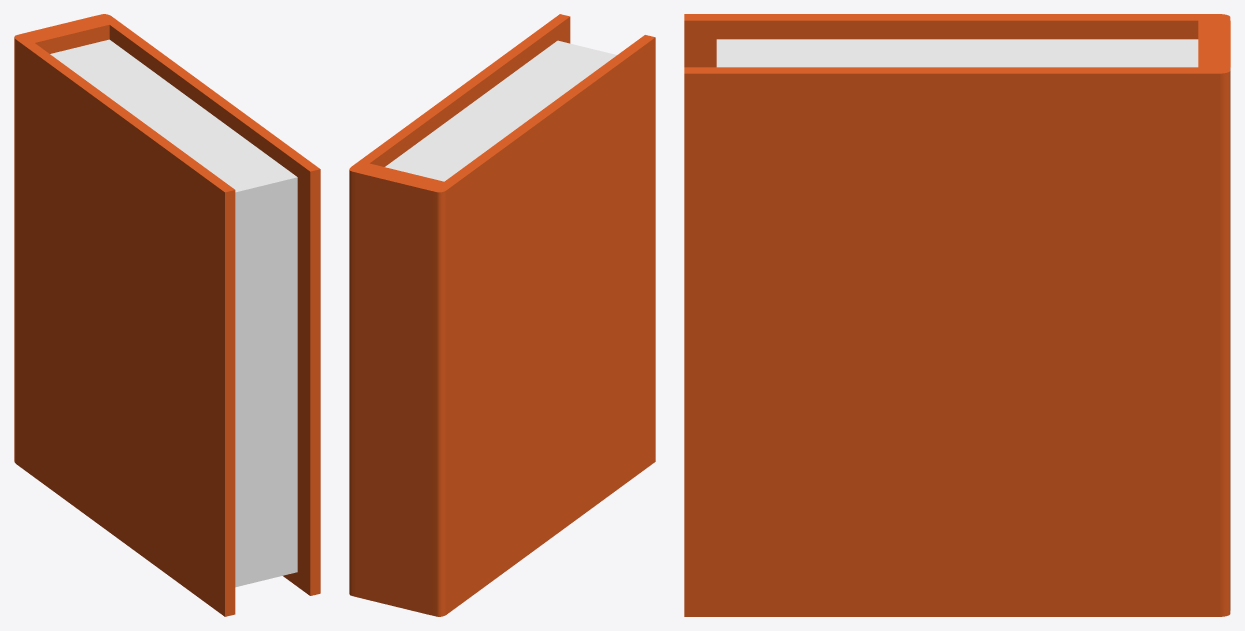
File: book2.fbx
3 views of the same model, side by side, from view 1: azimuth 30°, elevation 25°; view 2: azimuth 150°, elevation 25°; view 3: azimuth 270°, elevation 25° (orthographic). The views are drawn at different scales.
Visible parts, largest first — view 1: pCube1; view 2: pCube1; view 3: pCube1.
Part boxes in pixels (<box>): pCube1: <box>14,14,320,616</box>; pCube1: <box>349,14,655,616</box>; pCube1: <box>684,14,1230,616</box>.
Bounding box in the file's own units: 0.5398 × 2.29 × 2.09.
